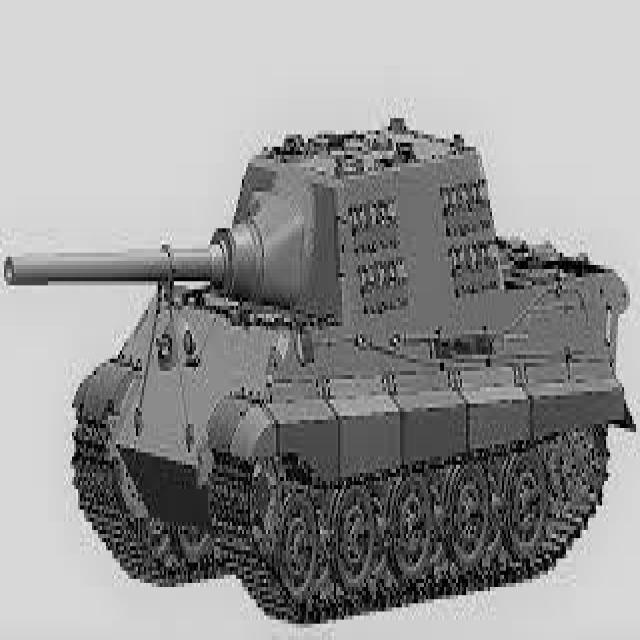Tanks: (9, 22, 571, 626)
